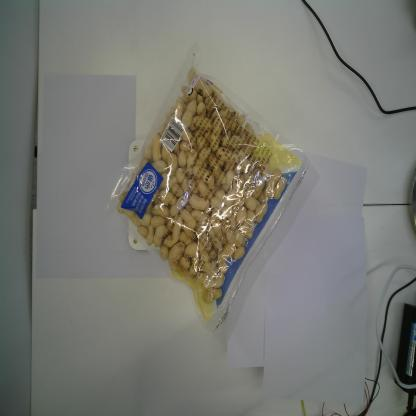Dried Food: (104, 42, 317, 345)
